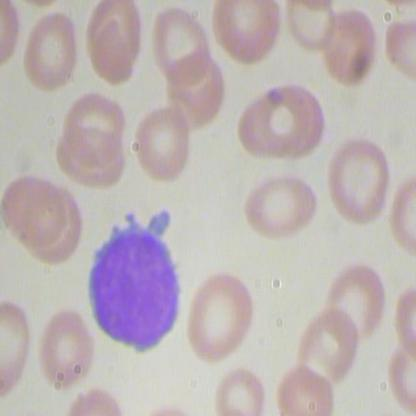RBC: (181, 269, 257, 366), (328, 135, 396, 230), (235, 81, 311, 162), (148, 3, 215, 89), (242, 166, 319, 238), (291, 308, 360, 388), (132, 102, 196, 185), (19, 10, 83, 93), (62, 88, 130, 166), (82, 1, 144, 86), (317, 6, 381, 88), (1, 170, 69, 247), (324, 263, 390, 342), (211, 1, 281, 68), (38, 306, 92, 390), (272, 358, 333, 415)
WBC: (76, 199, 192, 361)
